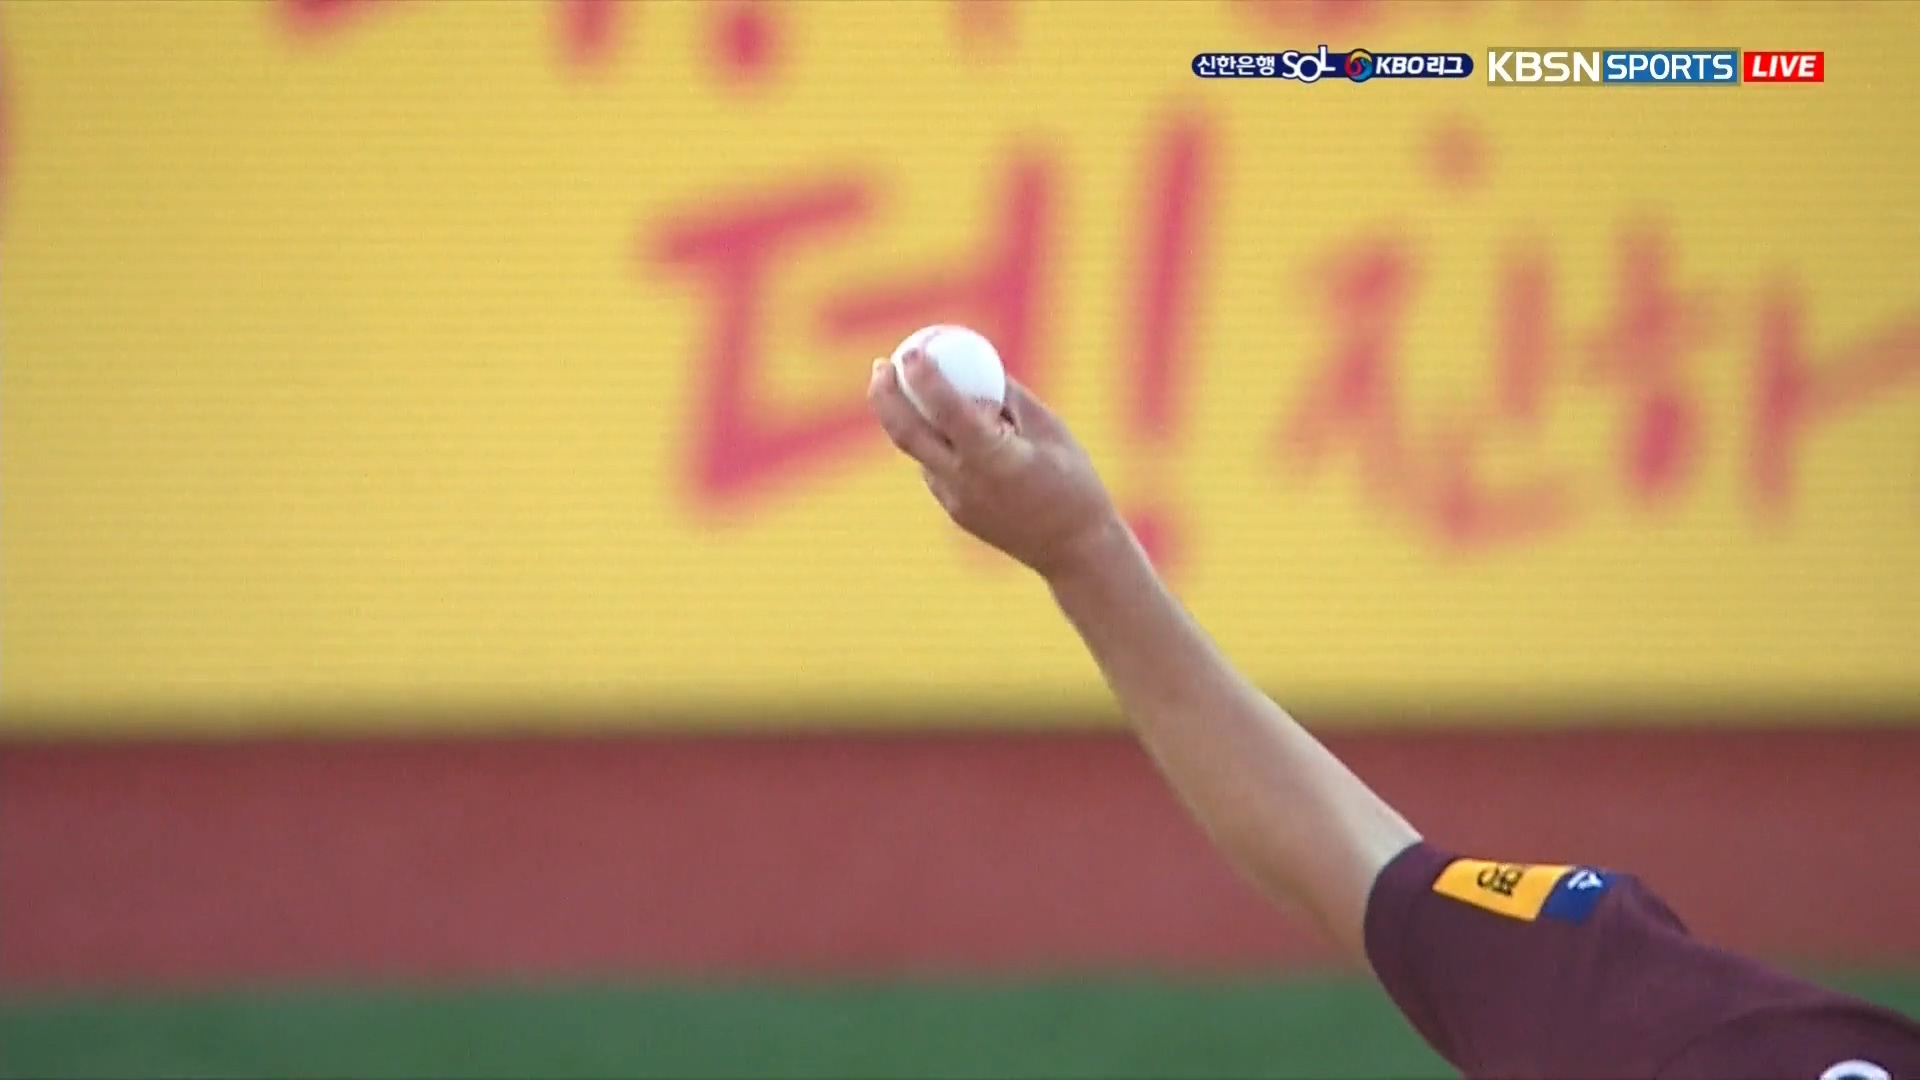zoomin_hand: (858, 316, 1433, 1036)
